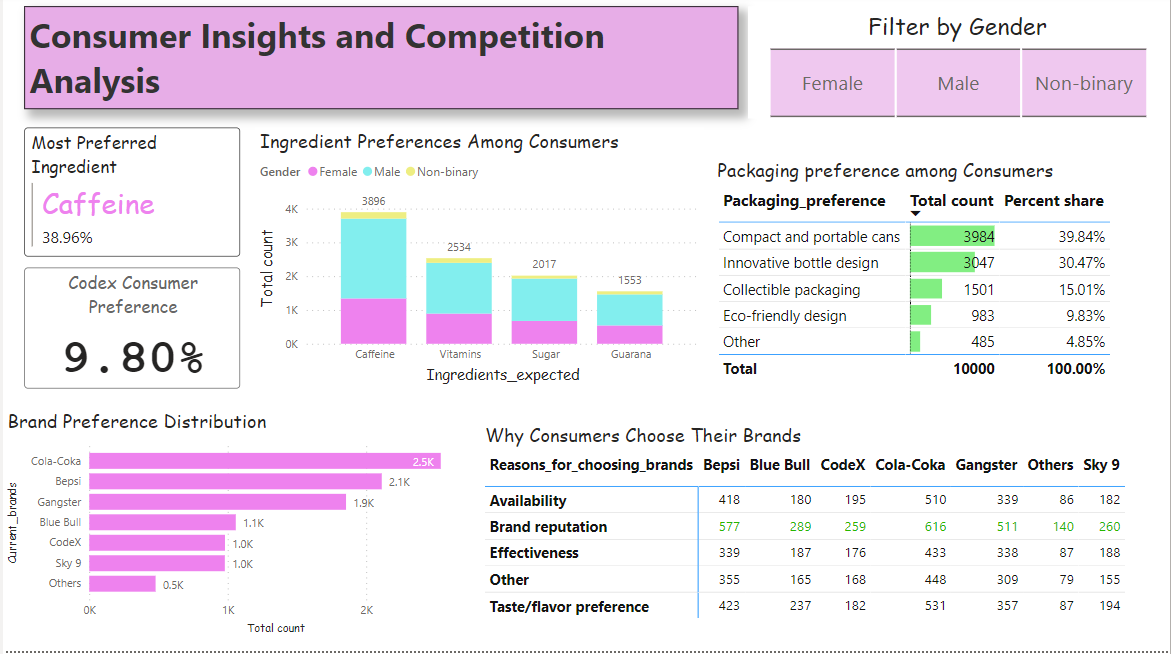

The page's visual inventory and layout, read from the dashboard file:
{"tool":"powerbi","page":{"name":"Consumer insights","canvas":[1280,720],"ordinal":1},"visuals":[{"type":"textbox","box":[23.3,12.3,782.9,112.4],"z":0},{"type":"columnChart","title":"Ingredient Preferences Among Consumers","fields":{"Y":["dim_cities.Total count"],"Category":["fact_survey_responses.Ingredients_expected"],"Series":["dim_repondents.Gender"]},"box":[277,145.3,492.2,286.5],"z":1000},{"type":"tableEx","title":"Packaging preference among Consumers","fields":{"Values":["fact_survey_responses.Packaging_preference","dim_cities.Total count","dim_cities.Percent share"]},"box":[778.8,176.9,488.1,255],"z":2000},{"type":"clusteredBarChart","title":"Brand Preference Distribution","fields":{"Y":["dim_cities.Total count"],"Category":["fact_survey_responses.Current_brands"]},"box":[0,452.3,522.2,254.5],"z":3000},{"type":"pivotTable","title":"Why Consumers Choose Their Brands","fields":{"Rows":["fact_survey_responses.Reasons_for_choosing_brands"],"Columns":["fact_survey_responses.Current_brands"],"Values":["dim_cities.Total count"]},"box":[523.7,467.5,733.5,252.3],"z":4000},{"type":"multiRowCard","title":"Most Preferred Ingredient","fields":{"Values":["dim_cities.MostPreferredIngredient","dim_cities.MostPreferredIngredientPercent"]},"box":[23.3,145.3,237.2,141.2],"z":5000},{"type":"card","title":"Codex Consumer Preference","fields":{"Values":["dim_cities.CodexPreferenceShare"]},"box":[23.3,298.9,237.2,133],"z":6000},{"type":"slicer","title":"Filter by Gender","fields":{"Values":["dim_repondents.Gender"]},"box":[817.1,12.3,463.4,123.4],"z":7000}]}

Visuals, with their boxes in screenshot pixels (x1, y1, x2, y2), scaled from the page's 1280x720 canvas onto the 1171x654 screenshot:
textbox: 21/11/738/113
"Ingredient Preferences Among Consumers" columnChart: 253/132/704/392
"Packaging preference among Consumers" tableEx: 712/161/1159/392
"Brand Preference Distribution" clusteredBarChart: 0/411/478/642
"Why Consumers Choose Their Brands" pivotTable: 479/425/1150/653
"Most Preferred Ingredient" multiRowCard: 21/132/238/260
"Codex Consumer Preference" card: 21/272/238/392
"Filter by Gender" slicer: 748/11/1170/123
